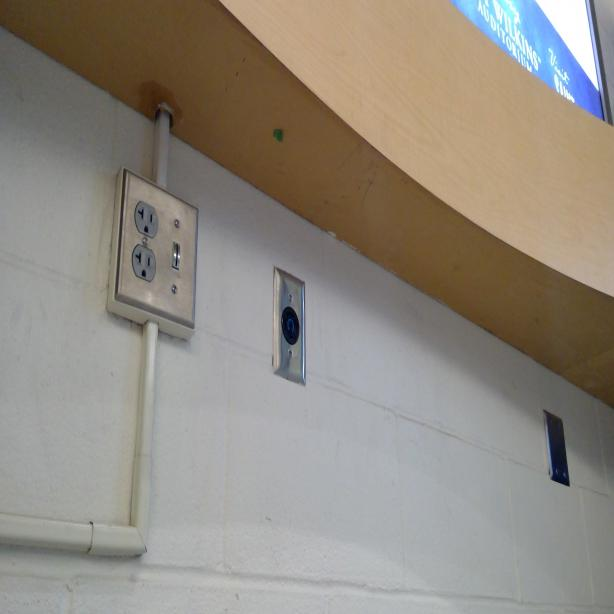typeb: (134, 202, 158, 241), (132, 248, 158, 282)
